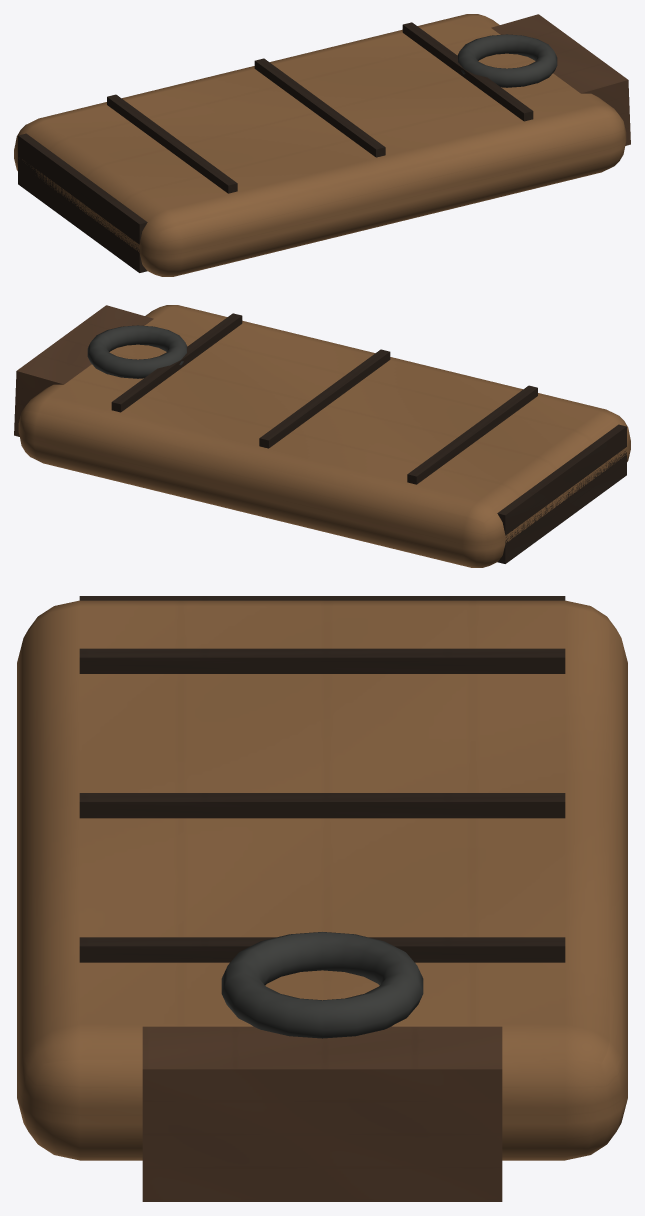
Rendered from sk-household-cutting-board.glb.
The picture shows the model from 3 angles, top to bottom: view 1: azimuth 30°, elevation 25°; view 2: azimuth 150°, elevation 25°; view 3: azimuth 270°, elevation 25°; orthographic projection. The views are drawn at different scales.
Parts seen in each view (by area): view 1: cutting-board-body, household:cutting_board-static-wood, cutting-board-handle, cutting-board-handle-hole; view 2: cutting-board-body, household:cutting_board-static-wood, cutting-board-handle, cutting-board-handle-hole; view 3: cutting-board-body, cutting-board-handle, household:cutting_board-static-wood, cutting-board-handle-hole.
Boxes of the visible parts, x1,y1,x2,y2 form: cutting-board-body: (14, 14, 626, 276); household:cutting_board-static-wood: (18, 22, 533, 272); cutting-board-handle: (491, 14, 630, 145); cutting-board-handle-hole: (457, 34, 557, 87); cutting-board-body: (18, 305, 630, 567); household:cutting_board-static-wood: (111, 313, 626, 563); cutting-board-handle: (14, 305, 153, 436); cutting-board-handle-hole: (87, 325, 187, 378); cutting-board-body: (17, 600, 627, 1160); cutting-board-handle: (142, 1026, 502, 1201); household:cutting_board-static-wood: (79, 596, 565, 962); cutting-board-handle-hole: (221, 932, 423, 1038).
Bounding box in the file's own units: 0.6516 × 0.101 × 0.34.
4 materials, 4 textured.
